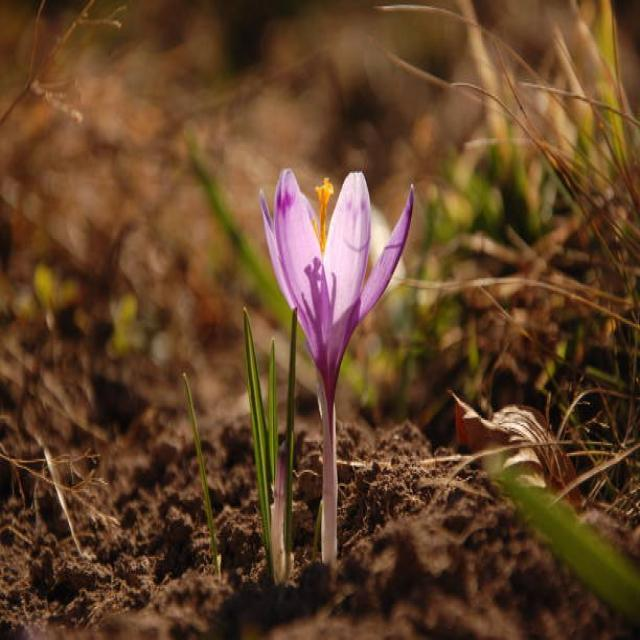saffron open: (261, 169, 414, 564)
